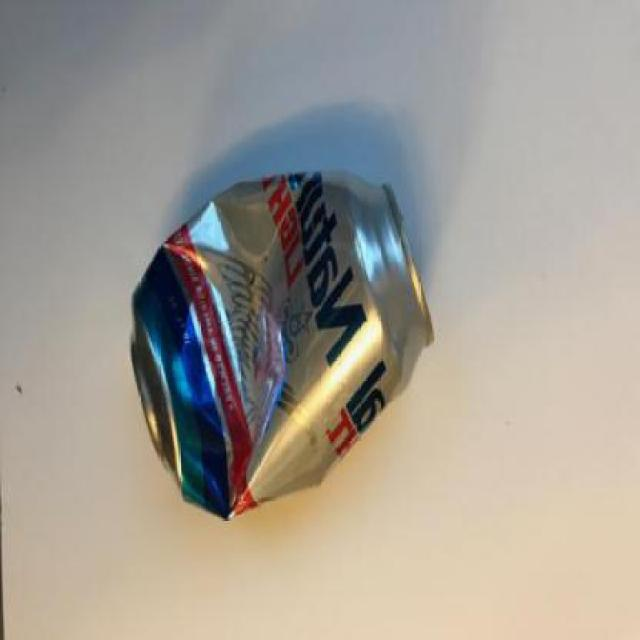METAL: (132, 169, 438, 517)
